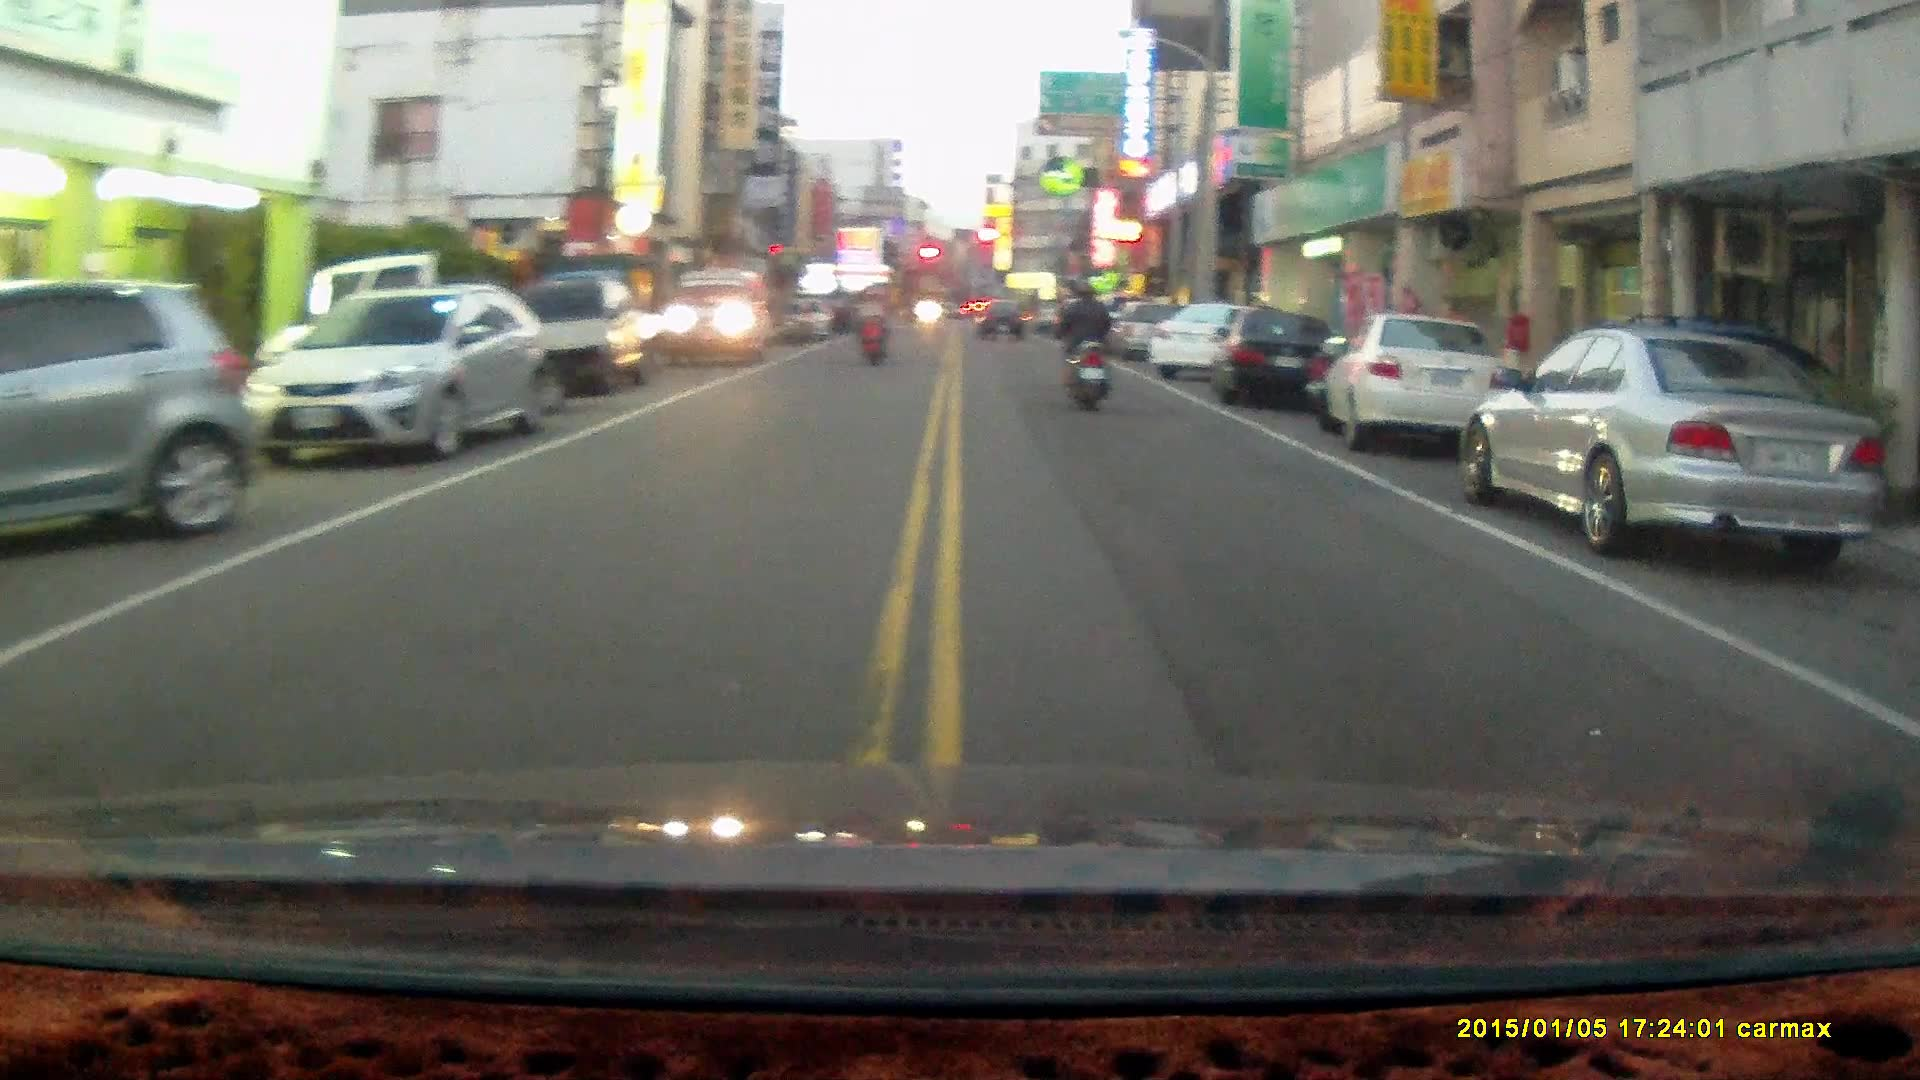rider: (1054, 276, 1113, 414), (858, 283, 892, 367)
vehicle: (1464, 323, 1894, 564), (1, 279, 264, 551), (247, 281, 543, 463), (1321, 312, 1524, 452), (507, 270, 652, 401), (1217, 303, 1342, 411), (659, 267, 773, 368)
